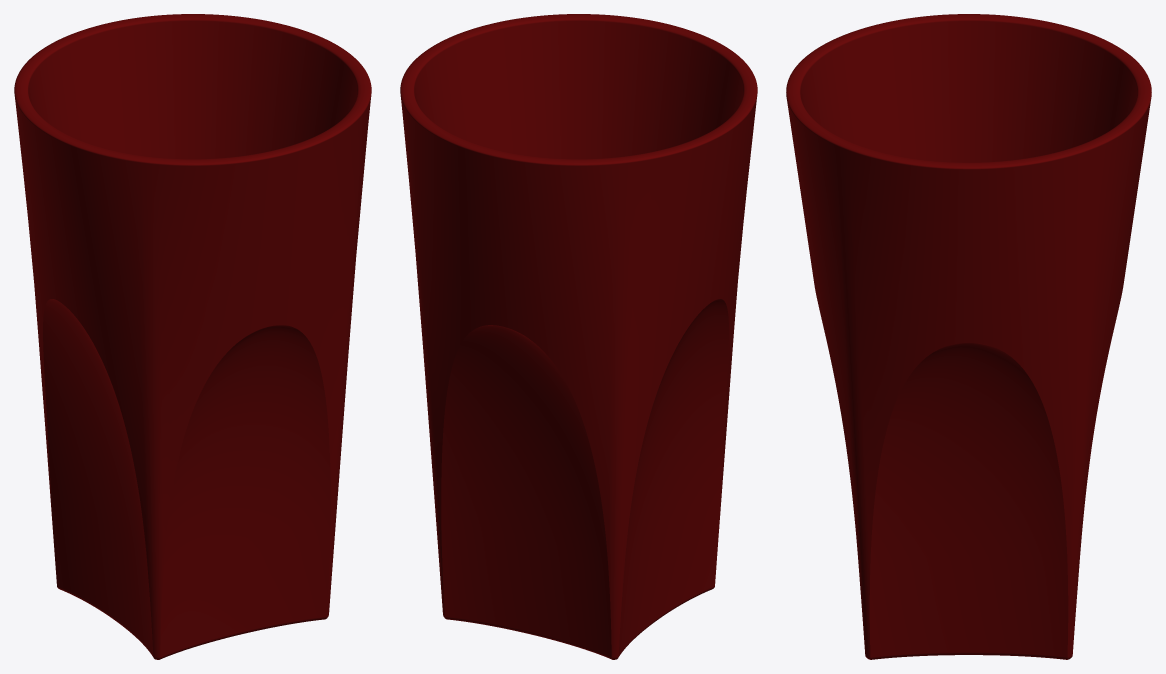
The model's file is CAMELIA70.glb.
The picture shows the model from 3 angles, left to right: view 1: azimuth 30°, elevation 25°; view 2: azimuth 150°, elevation 25°; view 3: azimuth 270°, elevation 25°; orthographic projection. The views are drawn at different scales.
Size of the model in its own units: 0.07 by 0.1115 by 0.07.
